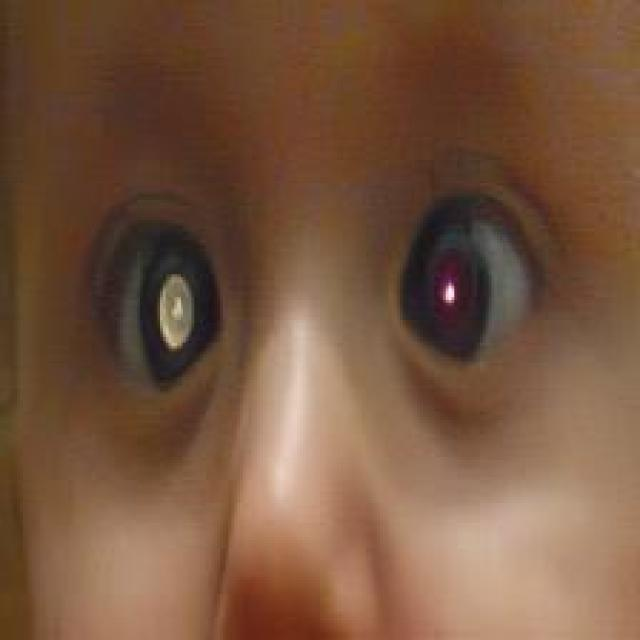reflexo-alterado: (90, 199, 245, 412)
reflexo-normal: (386, 167, 554, 412)
